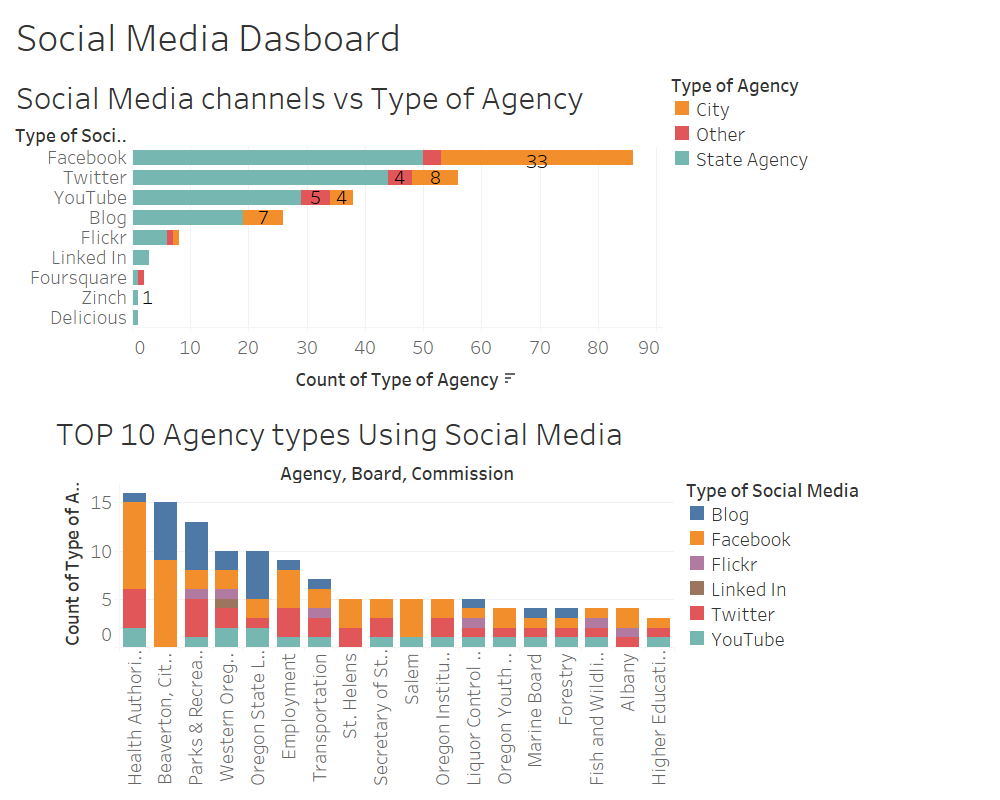

The page's visual inventory and layout, read from the dashboard file:
{"tool":"tableau","page":{"name":"Dashboard 1","canvas":[1000,800],"ordinal":0},"visuals":[{"type":"title","box":[8,8,984,58]},{"type":"worksheet","title":"Social Media channels vs Type of Agency","mark":"Automatic","rows":["Type of Social Media"],"cols":["Type of Agency"],"box":[8,66,658,726]},{"type":"legend","title":"Social Media channels vs Type of Agency","param":"[federated.15oxw2s1c50hzx1fdkh6o1y2f8rm].[none:Type of Agency:nk]","box":[666,66,326,109]},{"type":"worksheet","title":"TOP 10 Agency types Using Social Media","mark":"Automatic","cols":["Agency, Board, Commission"],"box":[52,406,622,381]},{"type":"legend","title":"TOP 10 Agency types Using Social Media","param":"[federated.15oxw2s1c50hzx1fdkh6o1y2f8rm].[none:Type of Social Media:nk]","box":[685,475,242,256]}]}

Visuals, with their boxes in screenshot pixels (x1, y1, x2, y2), scaled from the page's 1000x800 canvas onto the 1000x800 screenshot:
title: 8, 8, 992, 66
"Social Media channels vs Type of Agency" worksheet: 8, 66, 666, 792
"Social Media channels vs Type of Agency" legend: 666, 66, 992, 175
"TOP 10 Agency types Using Social Media" worksheet: 52, 406, 674, 787
"TOP 10 Agency types Using Social Media" legend: 685, 475, 927, 731
